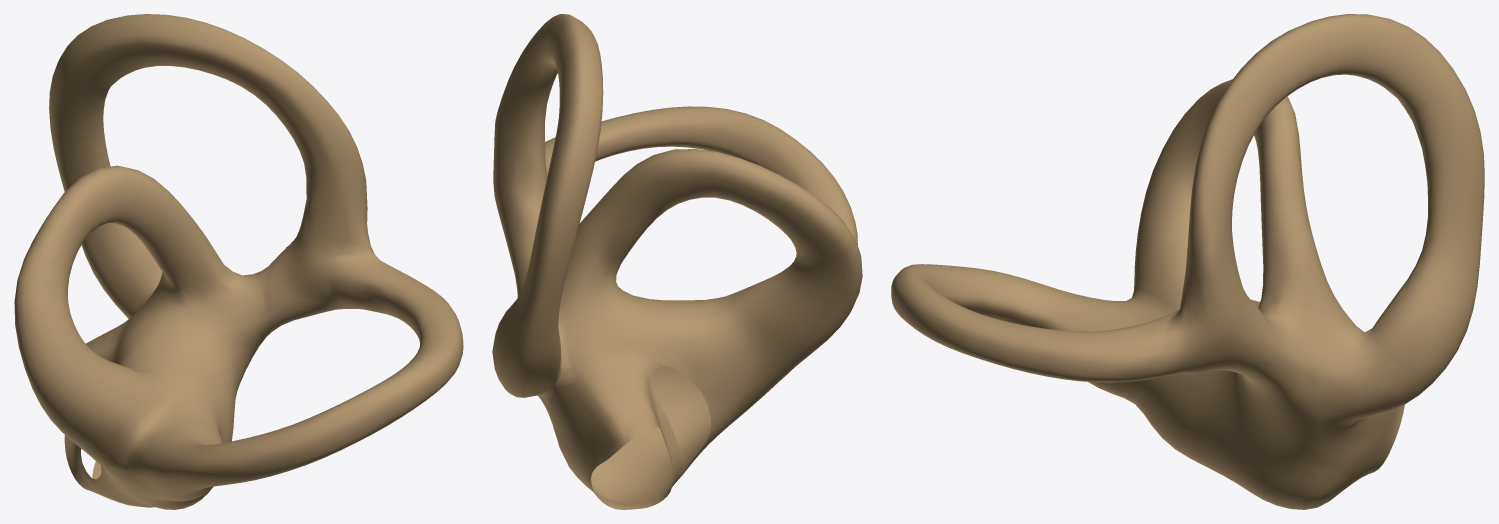
3 renders of one model, left to right at view 1: azimuth 30°, elevation 25°; view 2: azimuth 150°, elevation 25°; view 3: azimuth 270°, elevation 25°, orthographic. The views are drawn at different scales.
Parts seen in each view (by area): view 1: 右侧前庭; view 2: 右侧前庭; view 3: 右侧前庭.
Boxes of the visible parts, x1=… form: 右侧前庭: x1=14, y1=14, x2=463, y2=509; 右侧前庭: x1=492, y1=14, x2=862, y2=509; 右侧前庭: x1=891, y1=14, x2=1484, y2=509.
Bounding box in the file's own units: 0.0151 × 0.0177 × 0.0189.
